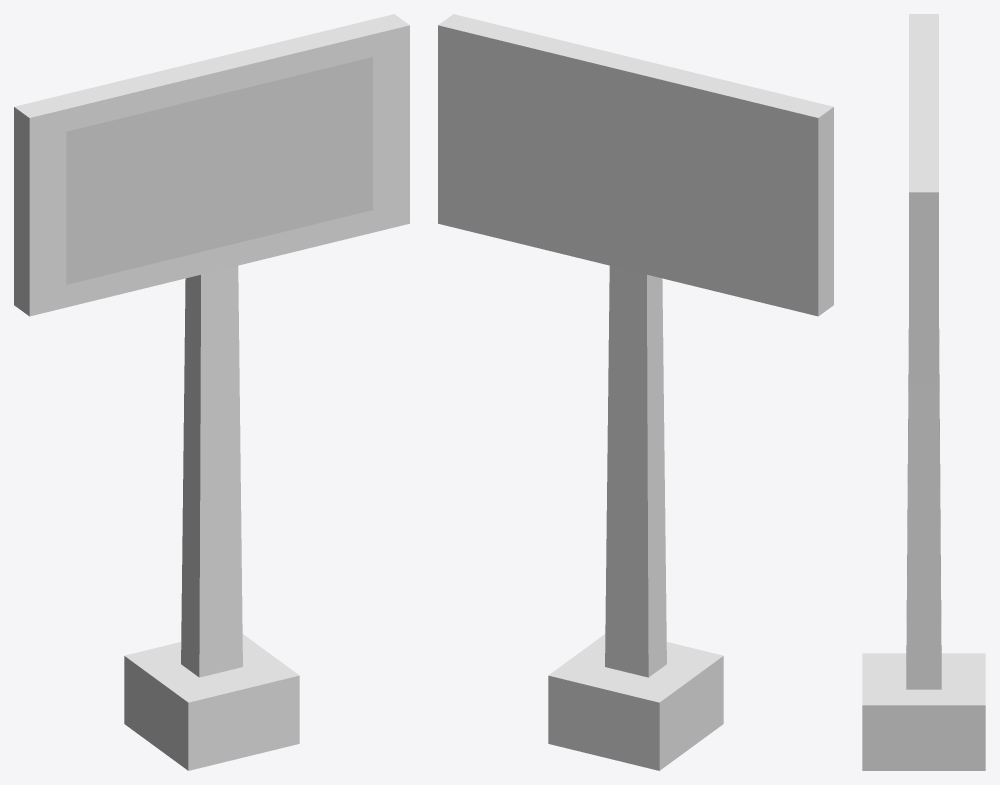
The model's file is Pota_.fbx.
3 renders of one model, left to right at view 1: azimuth 30°, elevation 25°; view 2: azimuth 150°, elevation 25°; view 3: azimuth 270°, elevation 25°, orthographic. The views are drawn at different scales.
Parts seen in each view (by area): view 1: pota, trans_pota_mavi; view 2: pota; view 3: pota.
Part boxes in pixels (left/top/right/bottom): pota: left=14, top=14, right=409, bottom=770; trans_pota_mavi: left=66, top=57, right=372, bottom=284; pota: left=438, top=14, right=833, bottom=770; pota: left=862, top=14, right=985, bottom=770.
Size of the model in its own units: 6047 by 10147 by 1769.
Materials: 1 (1 with a texture image).
